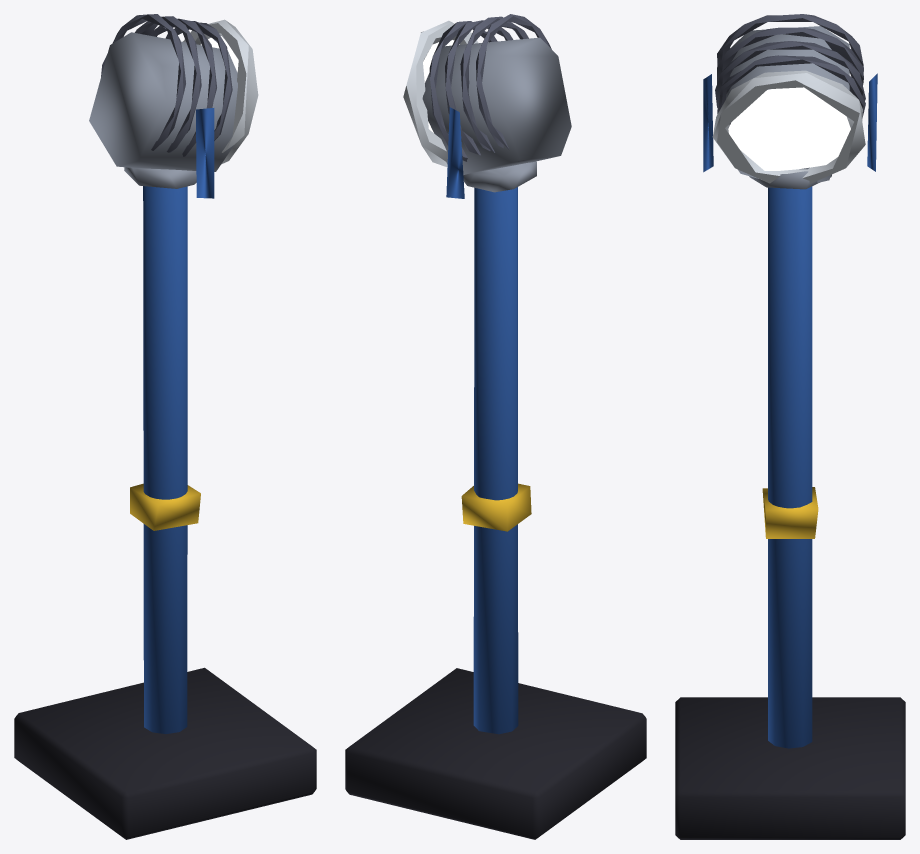
File: searchlight.glb
3 views of the same model, side by side, from view 1: azimuth 30°, elevation 25°; view 2: azimuth 150°, elevation 25°; view 3: azimuth 270°, elevation 25° (orthographic). The views are drawn at different scales.
Parts seen in each view (by area): view 1: searchlight.004, head.073; view 2: searchlight.004, head.073; view 3: searchlight.004, head.073.
Part boxes in pixels (<box>): searchlight.004: <box>14,167,316,839</box>; head.073: <box>89,14,258,198</box>; searchlight.004: <box>345,161,646,839</box>; head.073: <box>403,14,571,198</box>; searchlight.004: <box>675,171,905,839</box>; head.073: <box>703,14,877,183</box>.
Bounding box in the file's own units: 1.18 × 4.4 × 1.18.
Materials: 1 (1 with a texture image).
